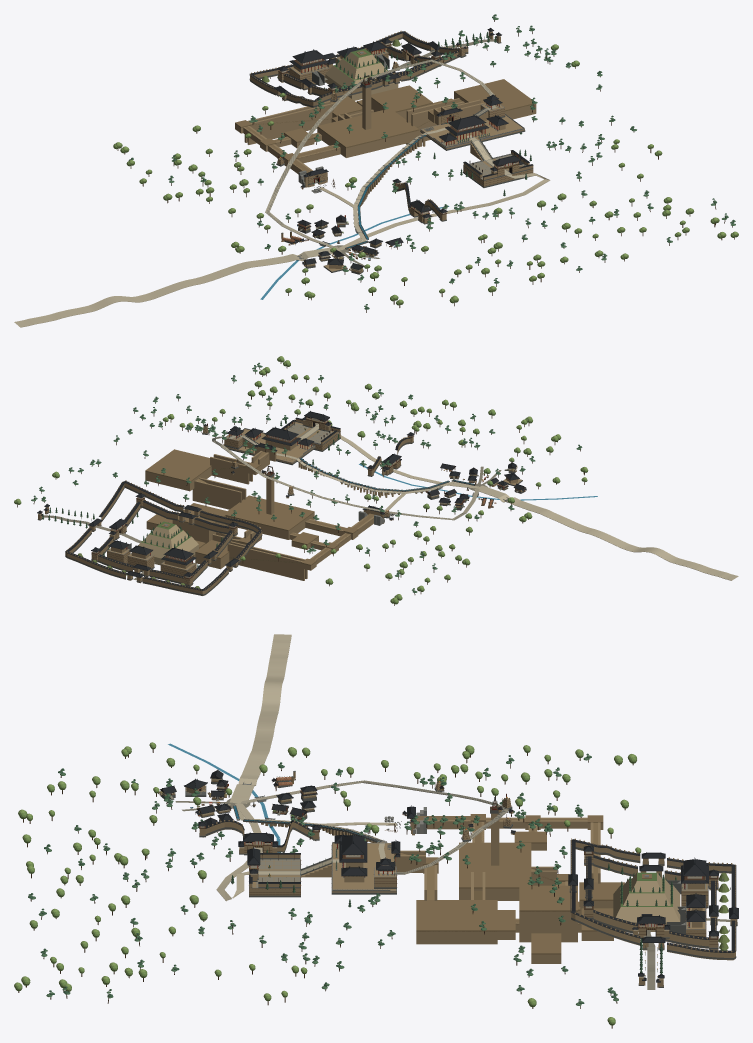
The model's file is world_qin.visual.glb.
The picture shows the model from 3 angles, top to bottom: view 1: azimuth 30°, elevation 25°; view 2: azimuth 150°, elevation 25°; view 3: azimuth 270°, elevation 25°; orthographic projection. The views are drawn at different scales.
Visible parts, largest first — view 1: qin_BuriedHalls, qin_Trees_Leaves, qin_MausoleumPark, qin_Routes, qin_Palace, qin_ArtisanTown, qin_BuriedRoyalCity, qin_Trees_Trunks, qin_Aqueduct, qin_RiverPass, qin_Workshops, qin_RidgeBeacons (+2 smaller); view 2: qin_BuriedHalls, qin_MausoleumPark, qin_Trees_Leaves, qin_Routes, qin_Palace, qin_ArtisanTown, qin_BuriedFoundry, qin_Trees_Trunks, qin_BuriedRoyalCity, qin_Aqueduct, qin_RiverPass, qin_Workshops (+2 smaller); view 3: qin_MausoleumPark, qin_BuriedHalls, qin_Trees_Leaves, qin_Palace, qin_Routes, qin_BuriedRoyalCity, qin_ArtisanTown, qin_BurialPits, qin_RiverPass, qin_Trees_Trunks, qin_Workshops, qin_RidgeBeacons (+1 smaller).
Boxes of the visible parts, <box> form: qin_BuriedHalls: <box>235,75,536,187</box>; qin_Trees_Leaves: <box>113,14,738,309</box>; qin_MausoleumPark: <box>249,28,501,107</box>; qin_Routes: <box>14,59,550,327</box>; qin_Palace: <box>420,94,533,187</box>; qin_ArtisanTown: <box>296,215,382,274</box>; qin_BuriedRoyalCity: <box>371,85,432,119</box>; qin_Trees_Trunks: <box>117,20,734,312</box>; qin_Aqueduct: <box>345,134,426,249</box>; qin_RiverPass: <box>392,178,447,224</box>; qin_Workshops: <box>281,166,403,272</box>; qin_RidgeBeacons: <box>267,42,491,224</box>; qin_BuriedHalls: <box>145,442,384,580</box>; qin_MausoleumPark: <box>37,480,262,595</box>; qin_Trees_Leaves: <box>14,356,588,604</box>; qin_Routes: <box>212,423,738,580</box>; qin_Palace: <box>221,411,340,465</box>; qin_ArtisanTown: <box>426,462,526,510</box>; qin_BuriedFoundry: <box>192,477,246,509</box>; qin_Trees_Trunks: <box>17,362,584,605</box>; qin_BuriedRoyalCity: <box>172,503,229,543</box>; qin_Aqueduct: <box>297,458,475,497</box>; qin_RiverPass: <box>366,432,414,477</box>; qin_Workshops: <box>358,463,522,525</box>; qin_MausoleumPark: <box>568,838,738,989</box>; qin_BuriedHalls: <box>391,797,624,944</box>; qin_Trees_Leaves: <box>14,742,702,1025</box>; qin_Palace: <box>247,833,397,897</box>; qin_Routes: <box>216,634,508,901</box>; qin_BuriedRoyalCity: <box>519,885,577,942</box>; qin_ArtisanTown: <box>158,769,317,823</box>; qin_BurialPits: <box>497,908,613,963</box>; qin_RiverPass: <box>198,820,320,855</box>; qin_Trees_Trunks: <box>18,749,666,1028</box>; qin_Workshops: <box>184,771,426,833</box>; qin_RidgeBeacons: <box>329,778,515,873</box>.
Size of the model in its own units: 873 by 154 by 649.
